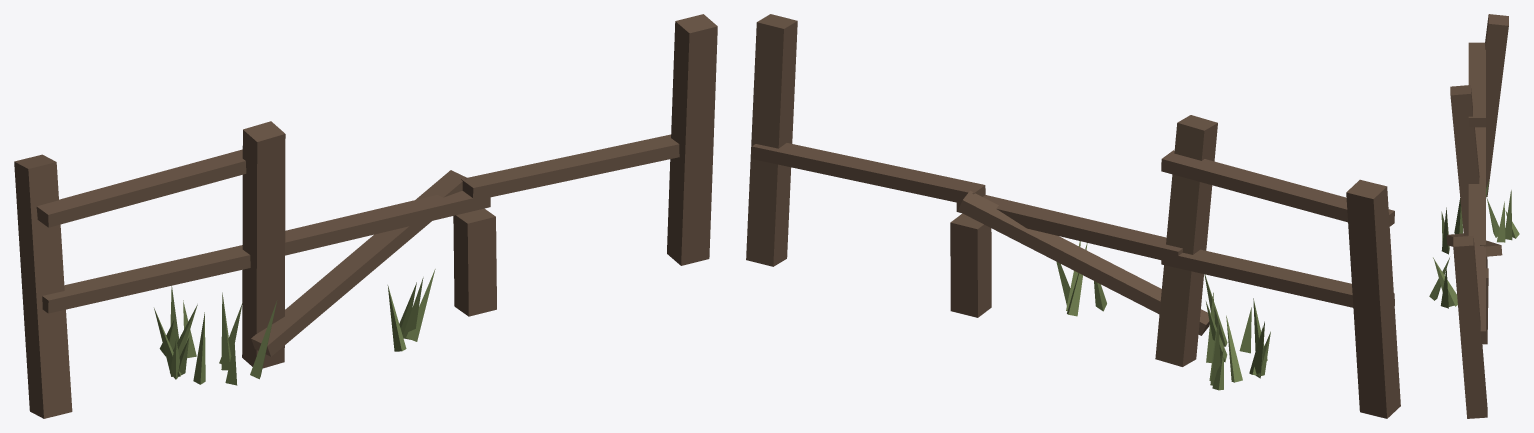
File: edge_fence.glb
3 views of the same model, side by side, from view 1: azimuth 30°, elevation 25°; view 2: azimuth 150°, elevation 25°; view 3: azimuth 270°, elevation 25° (orthographic). The views are drawn at different scales.
Visible parts, largest first — view 1: edge_fence; view 2: edge_fence; view 3: edge_fence.
Boxes of the visible parts, x1=… form: edge_fence: x1=14, y1=14, x2=717, y2=418; edge_fence: x1=746, y1=14, x2=1400, y2=418; edge_fence: x1=1429, y1=14, x2=1519, y2=418.
Bounding box in the file's own units: 3.76 × 1.31 × 0.6205.
